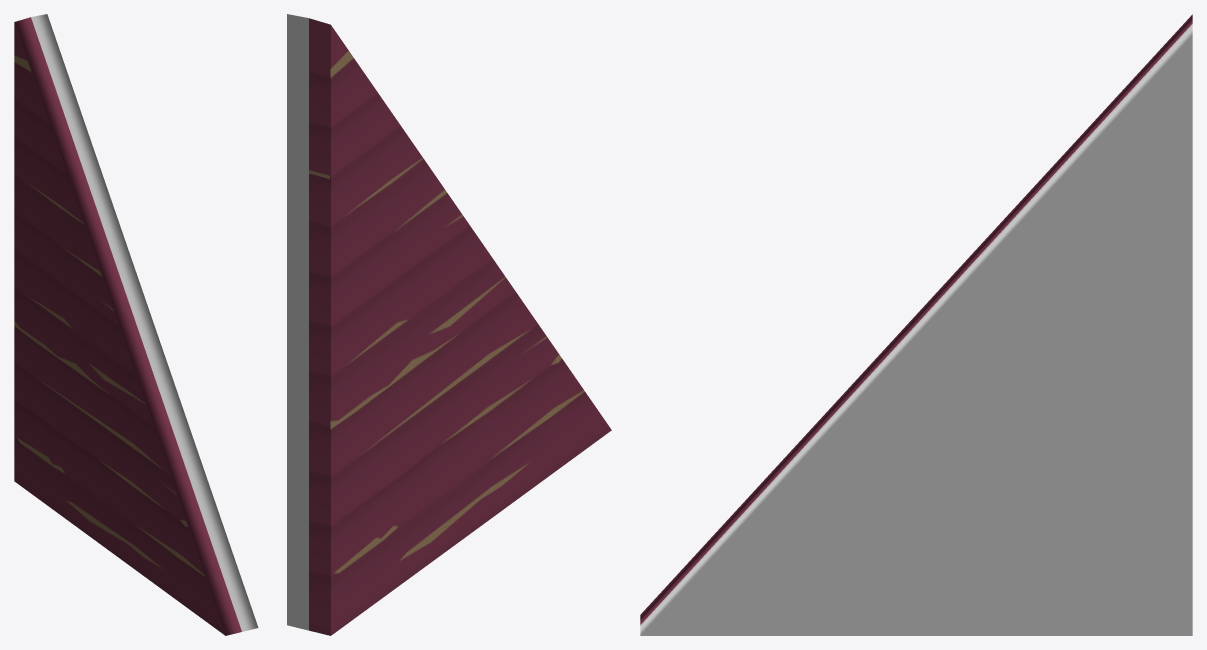
The model's file is SM_Bld_Roof_Straight_Wall_01.fbx.
3 views of the same model, side by side, from view 1: azimuth 30°, elevation 25°; view 2: azimuth 150°, elevation 25°; view 3: azimuth 270°, elevation 25° (orthographic). The views are drawn at different scales.
Visible parts, largest first — view 1: SM_Bld_Roof_Straight_Wall_01; view 2: SM_Bld_Roof_Straight_Wall_01; view 3: SM_Bld_Roof_Straight_Wall_01.
Boxes of the visible parts, box(x1,y1,x2,y2) form: SM_Bld_Roof_Straight_Wall_01: box(14, 14, 258, 635); SM_Bld_Roof_Straight_Wall_01: box(287, 14, 611, 635); SM_Bld_Roof_Straight_Wall_01: box(640, 14, 1192, 635).
Bounding box in the file's own units: 22.5 × 301 × 250.
